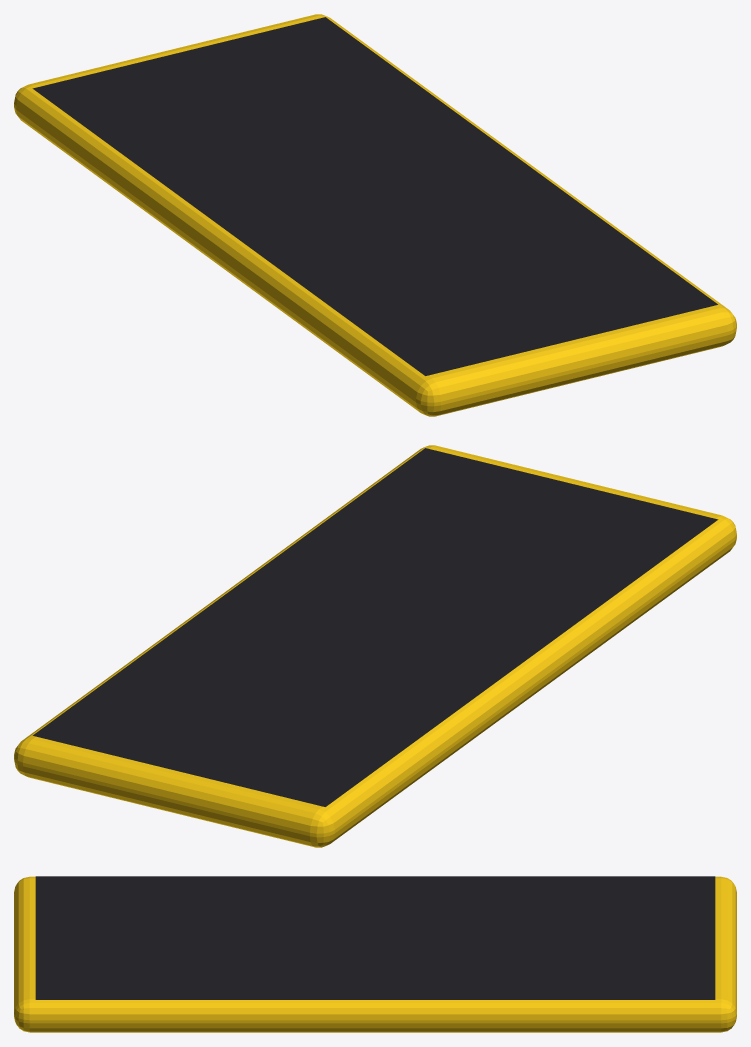
Rendered from Phone_298.glb.
The picture shows the model from 3 angles, top to bottom: view 1: azimuth 30°, elevation 25°; view 2: azimuth 150°, elevation 25°; view 3: azimuth 270°, elevation 25°; orthographic projection. The views are drawn at different scales.
Visible parts, largest first — view 1: Phone_Screen, Phone_Body; view 2: Phone_Screen, Phone_Body; view 3: Phone_Screen, Phone_Body.
Part boxes in pixels (x1=…): Phone_Screen: x1=32, y1=17, x2=717, y2=375; Phone_Body: x1=14, y1=14, x2=736, y2=416; Phone_Screen: x1=33, y1=448, x2=718, y2=806; Phone_Body: x1=14, y1=445, x2=736, y2=847; Phone_Screen: x1=35, y1=876, x2=715, y2=999; Phone_Body: x1=14, y1=876, x2=736, y2=1032.
Bounding box in the file's own units: 0.0743 × 0.0083 × 0.1689.
